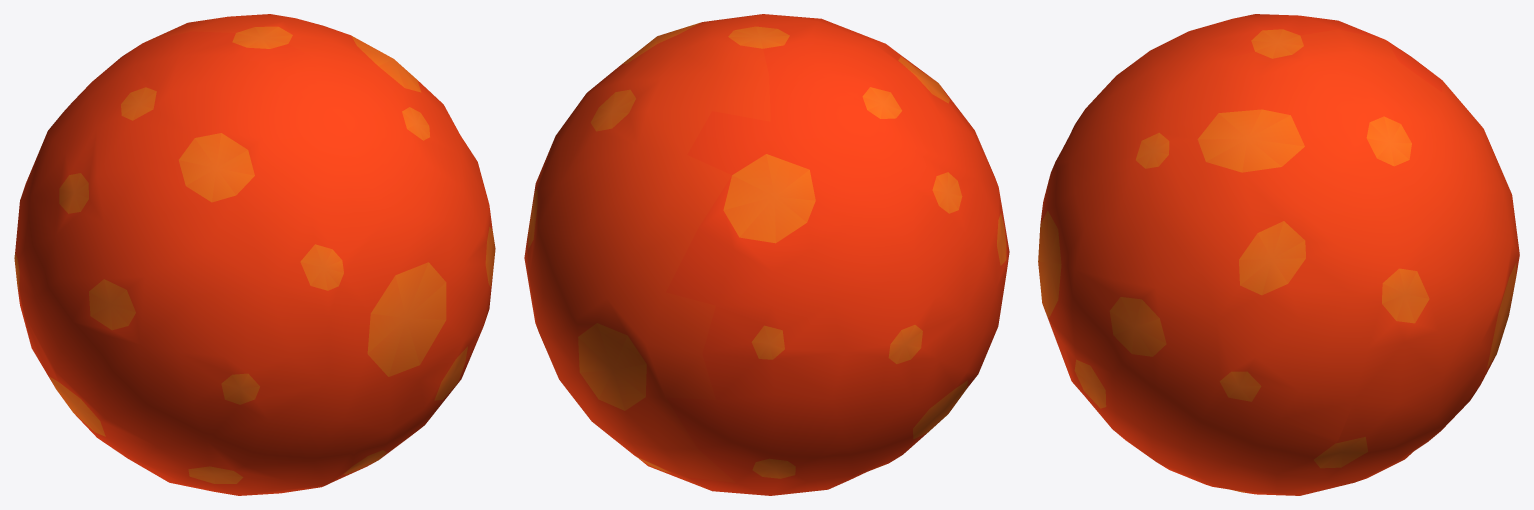
File: Mars.obj
3 views of the same model, side by side, from view 1: azimuth 30°, elevation 25°; view 2: azimuth 150°, elevation 25°; view 3: azimuth 270°, elevation 25° (orthographic).
Visible parts, largest first — view 1: Mars; view 2: Mars; view 3: Mars.
Boxes of the visible parts, bbox=[...] form: Mars: bbox=[14, 14, 495, 495]; Mars: bbox=[524, 14, 1009, 495]; Mars: bbox=[1038, 14, 1519, 495].
Bounding box in the file's own units: 16.84 × 16.69 × 16.81.
